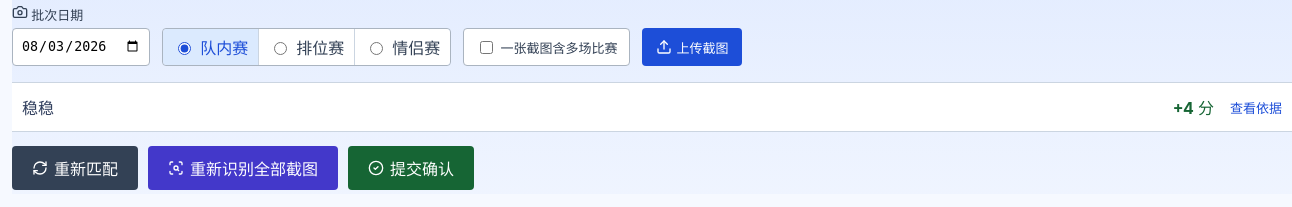
Test case: re-matches the current batch from stored observations
What coordinates should you click on to do the following:
click the button "重新匹配"
I would click on:
 (75, 168)
Its box is [12,146,138,190].
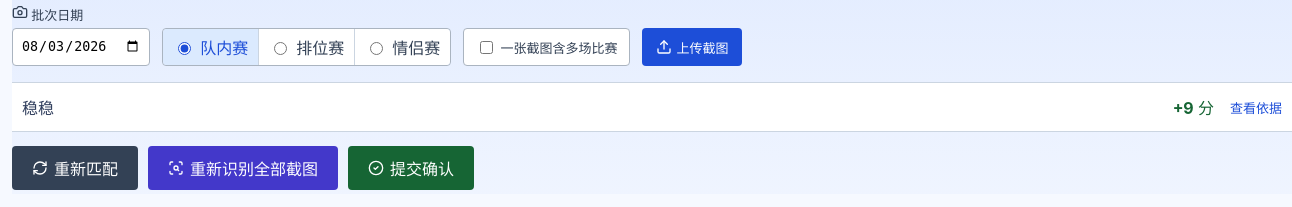
Check: the text "+9 分" is shown, box [1173,95,1214,119]
